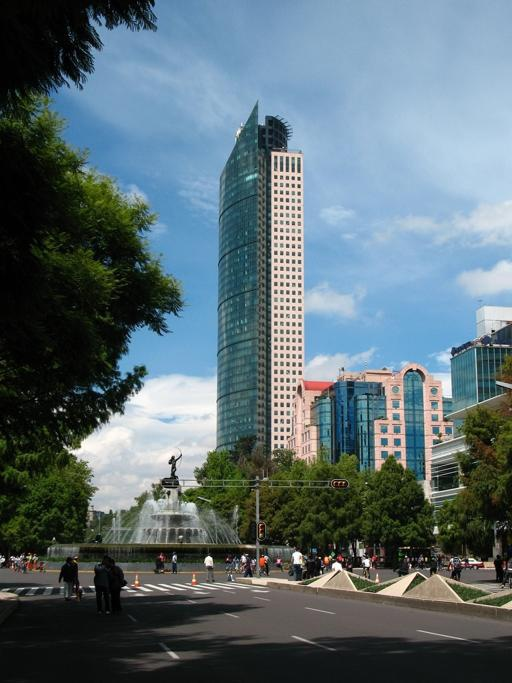non-vehicle: (258, 563, 271, 575), (361, 565, 370, 578)
